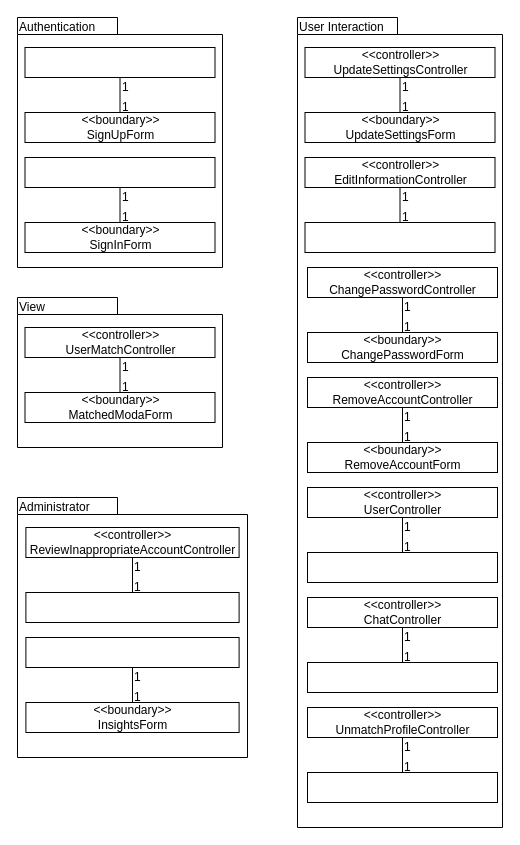
The diagram is 520 pixels wide and 845 high, and some of its shapes have lost their labels. The shapes that lost their labels are listed below. From the top down, each one's centre as x and y in pixels, then its label:
At point (119, 62): "<<controller>> SignUpController".
At point (119, 172): "<<controller>> SignInController".
At point (399, 237): "<<boundary>> EditInformationForm".
At point (402, 567): "<<boundary>> SwipeCardForm".
At point (132, 607): "<<boundary>> ReviewInappropriateAccount Form".
At point (132, 652): "<<controller>> Insights Controller".
At point (402, 677): "<<boundary>> ChatCardForm".
At point (402, 787): "<<boundary>> UnmatchProfileForm".
